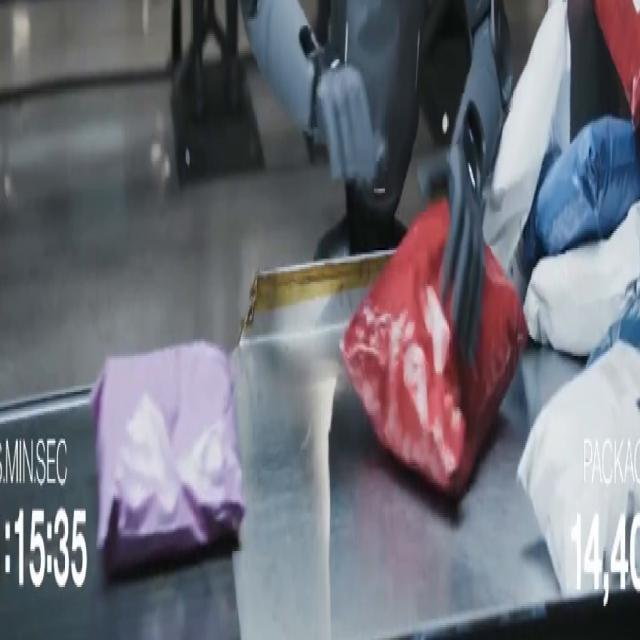package: (342, 202, 527, 498), (92, 344, 244, 576), (518, 342, 639, 595), (484, 0, 570, 273), (525, 204, 639, 358), (531, 117, 639, 256), (595, 0, 639, 127), (588, 278, 639, 364), (532, 147, 561, 211)
